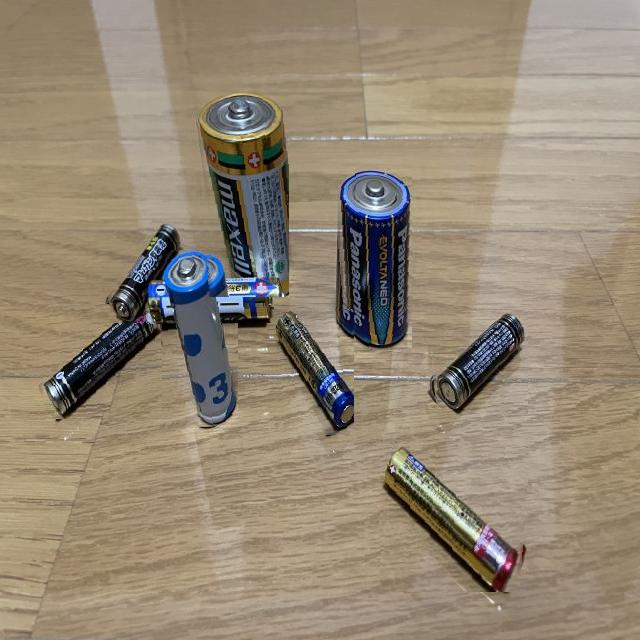battery: (380, 444, 530, 592), (194, 89, 289, 297), (32, 304, 162, 421), (157, 250, 238, 430), (332, 169, 412, 350), (270, 309, 354, 439), (427, 310, 528, 414), (103, 220, 184, 323), (143, 270, 274, 324)
